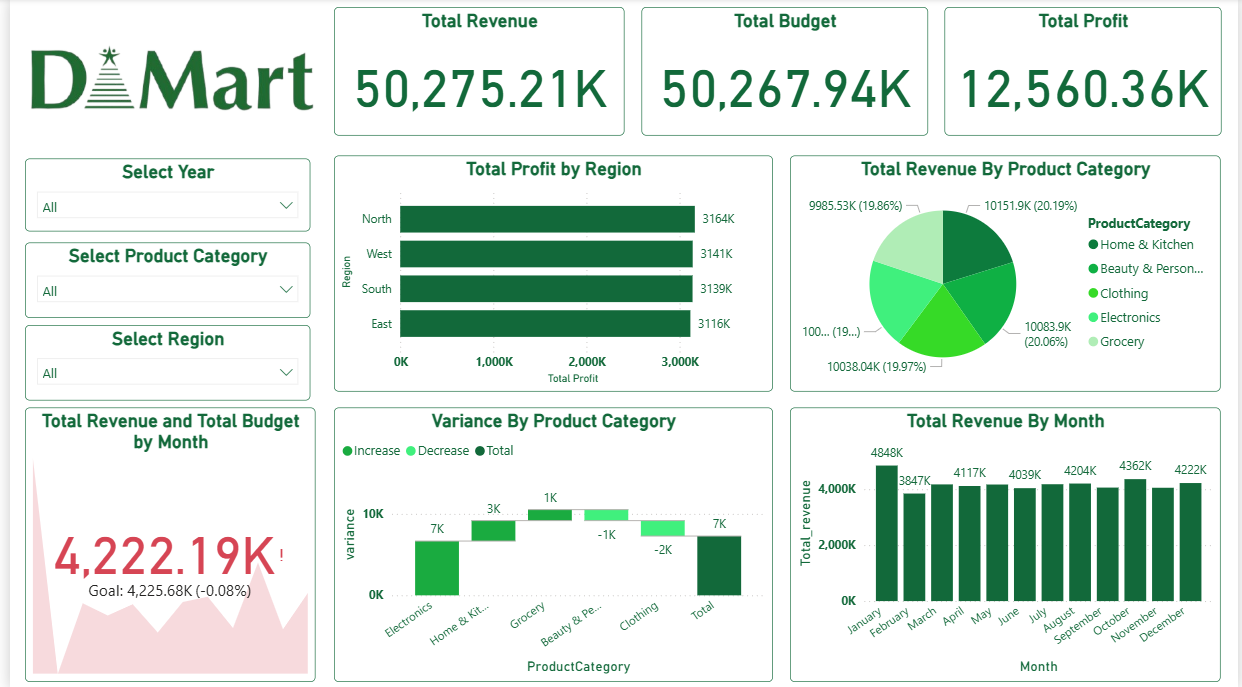

The page's visual inventory and layout, read from the dashboard file:
{"tool":"powerbi","page":{"name":"DMart Financial Summary","canvas":[1280,720],"ordinal":0},"visuals":[{"type":"card","title":"Total Revenue","fields":{"Values":["DMart_Enhanced_Financial_Data.Total_revenue"]},"box":[337.1,10,302.9,134.3],"z":0},{"type":"card","title":"Total Profit","fields":{"Values":["DMart_Enhanced_Financial_Data.Total_profit"]},"box":[974.3,10,288.6,134.3],"z":1000},{"type":"card","title":"Total Budget","fields":{"Values":["DMart_Enhanced_Financial_Data.Total Budget"]},"box":[658.6,10,298.6,134.3],"z":2000},{"type":"columnChart","title":"Total Revenue By Month","fields":{"Y":["DMart_Enhanced_Financial_Data.Total_revenue"],"Category":["DMart_Enhanced_Financial_Data.Purchase_Date.Variation.Date Hierarchy.Month"]},"box":[812.9,427.1,448.6,285.7],"z":3000},{"type":"slicer","title":"Select Year","fields":{"Values":["DMart_Enhanced_Financial_Data.Purchase_Date.Variation.Date Hierarchy.Year"]},"box":[15.7,167.1,297.1,75.7],"z":4000},{"type":"barChart","fields":{"Y":["DMart_Enhanced_Financial_Data.Total Profit"],"Category":["DMart_Enhanced_Financial_Data.Region"]},"box":[337.1,164.3,457.1,245.7],"z":5000},{"type":"pieChart","title":"Total Revenue By Product Category","fields":{"Y":["DMart_Enhanced_Financial_Data.Total_revenue"],"Category":["DMart_Enhanced_Financial_Data.ProductCategory"]},"box":[812.9,164.3,448.6,245.7],"z":6000},{"type":"waterfallChart","title":"Variance By Product Category","fields":{"Category":["DMart_Enhanced_Financial_Data.ProductCategory"],"Y":["DMart_Enhanced_Financial_Data.variance"]},"box":[337.1,427.1,457.1,285.7],"z":7000},{"type":"slicer","title":"Select Product Category","fields":{"Values":["DMart_Enhanced_Financial_Data.ProductCategory"]},"box":[15.7,254.3,297.1,78.6],"z":8000},{"type":"kpi","title":"Total Revenue and Total Budget by Month","fields":{"Goal":["DMart_Enhanced_Financial_Data.Total Budget"],"Indicator":["DMart_Enhanced_Financial_Data.Total_revenue"],"TrendLine":["DMart_Enhanced_Financial_Data.Purchase_Date.Variation.Date Hierarchy.Month"]},"box":[15.7,427.1,302.9,285.7],"z":9000},{"type":"slicer","title":"Select Region","fields":{"Values":["DMart_Enhanced_Financial_Data.Region"]},"box":[15.7,341.4,297.1,78.6],"z":10000},{"type":"image","box":[8.6,0,321.4,164.3],"z":11000}]}

Visuals, with their boxes in screenshot pixels (x1, y1, x2, y2), scaled from the page's 1280x720 canvas onto the 1242x687 screenshot:
"Total Revenue" card: <box>327,10,621,138</box>
"Total Profit" card: <box>945,10,1225,138</box>
"Total Budget" card: <box>639,10,929,138</box>
"Total Revenue By Month" columnChart: <box>789,408,1224,680</box>
"Select Year" slicer: <box>15,159,304,232</box>
barChart - DMart_Enhanced_Financial_Data.Total Profit x DMart_Enhanced_Financial_Data.Region: <box>327,157,771,391</box>
"Total Revenue By Product Category" pieChart: <box>789,157,1224,391</box>
"Variance By Product Category" waterfallChart: <box>327,408,771,680</box>
"Select Product Category" slicer: <box>15,243,304,318</box>
"Total Revenue and Total Budget by Month" kpi: <box>15,408,309,680</box>
"Select Region" slicer: <box>15,326,304,401</box>
image: <box>8,0,320,157</box>
